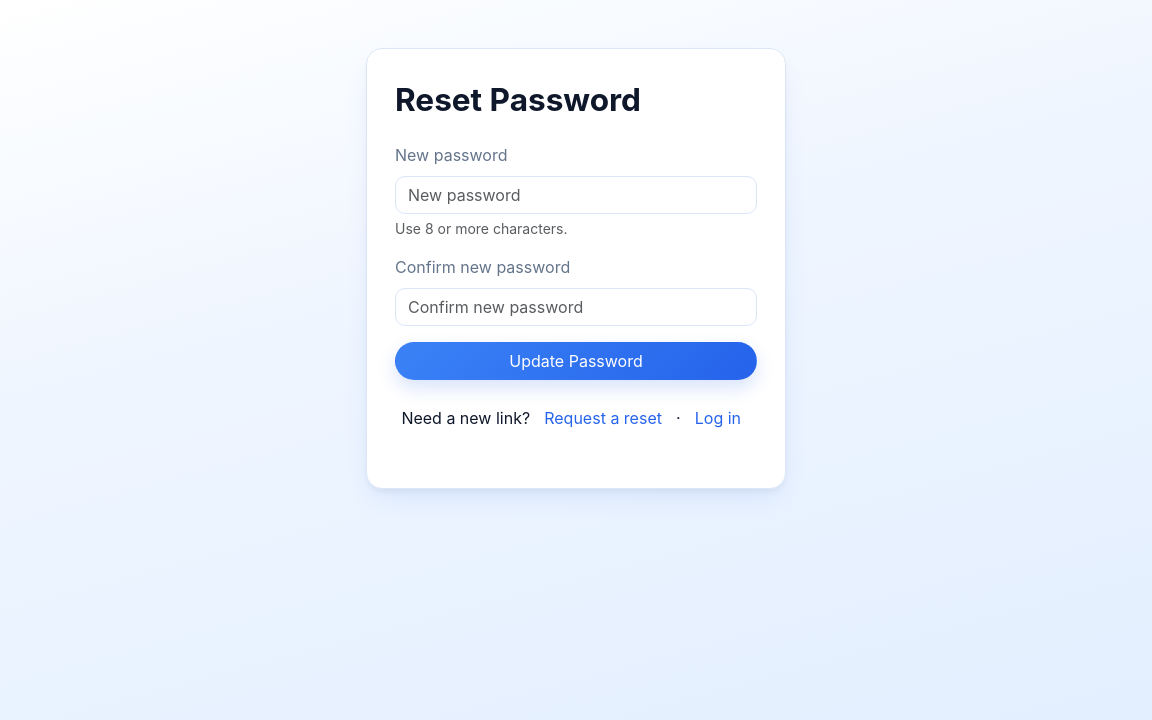
Test: ResetPassword Page › shows the server error for an invalid token
Type "longenough1" into the password field labelled "New password".
click(576, 195); type("longenough1")  # box [395,176,757,214]
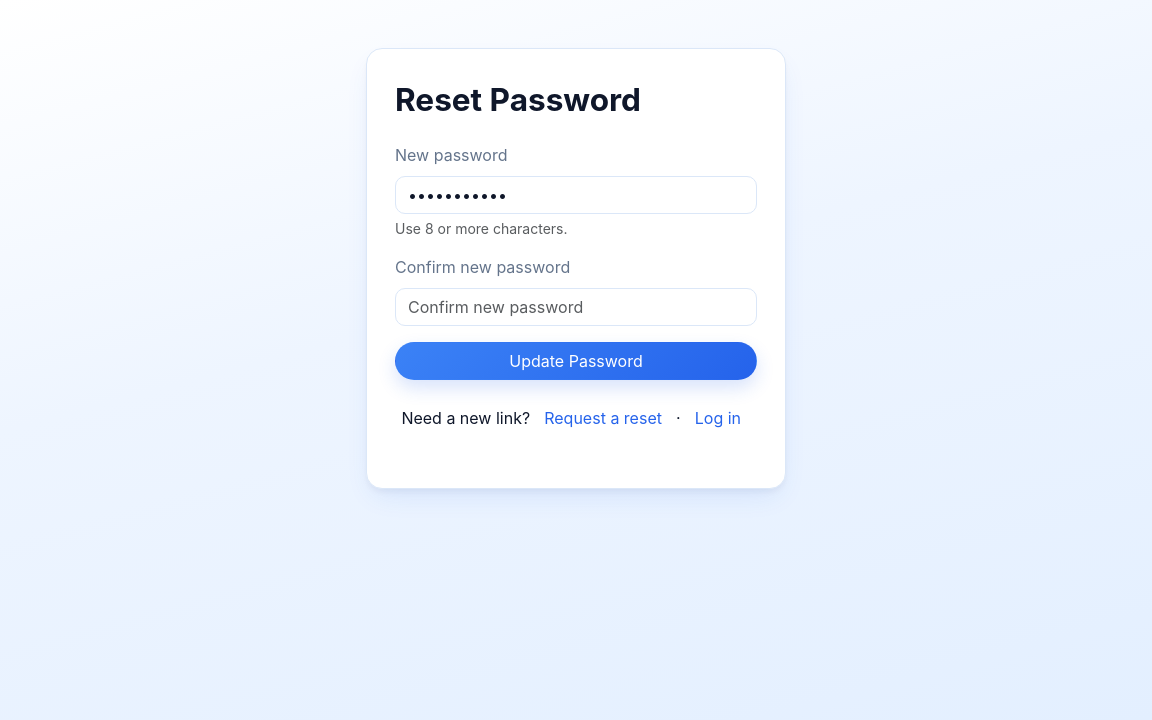
Type "longenough1" into the password field labelled "Confirm new password".
click(576, 307); type("longenough1")  # box [395,288,757,326]
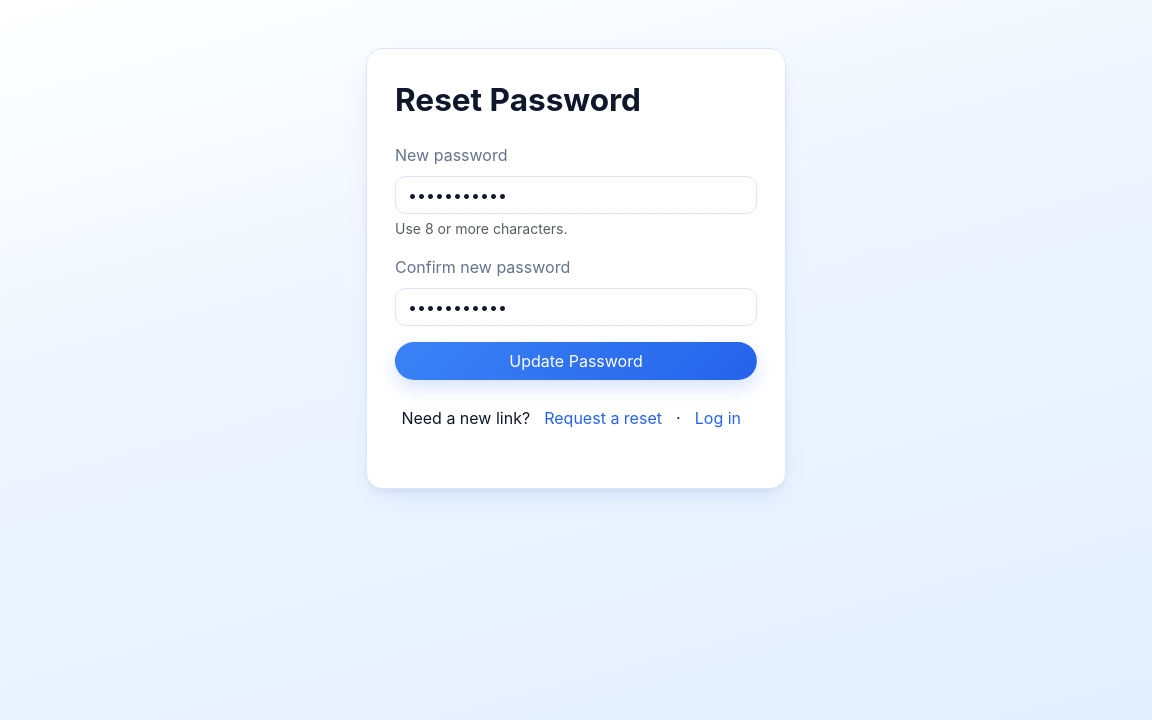
Click the button "Update Password".
click(576, 361)  # box [395,342,757,380]
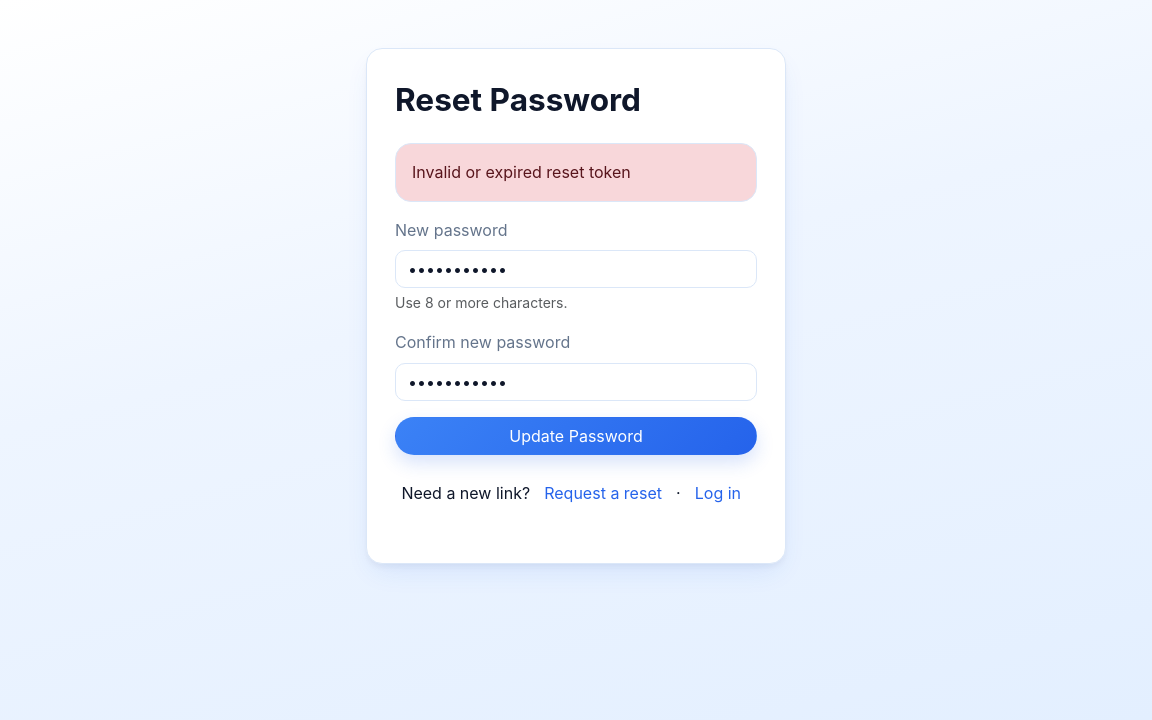
Now the text "Invalid or expired reset token" is shown, box [395,143,757,202]
